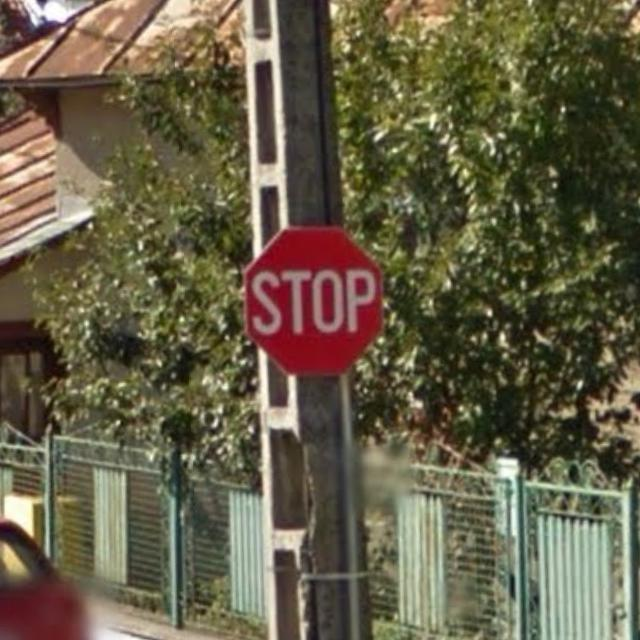prio_stop: (244, 225, 384, 374)
